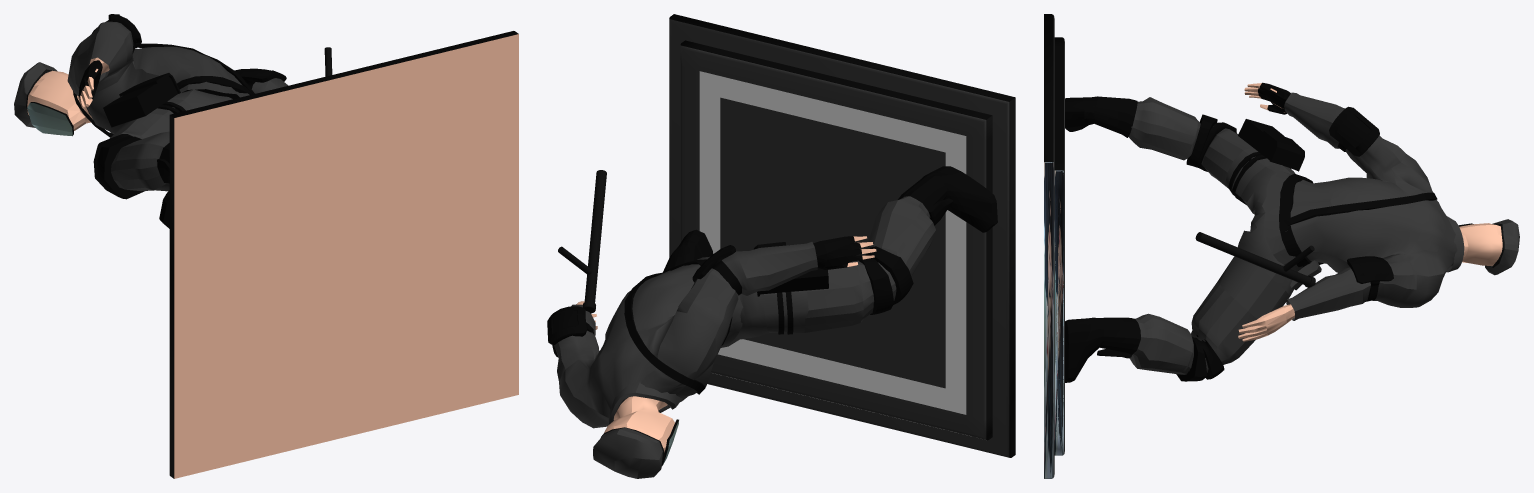
Rendered from superlimitededitioncantiusunit.fbx.
The picture shows the model from 3 angles, left to right: view 1: azimuth 30°, elevation 25°; view 2: azimuth 150°, elevation 25°; view 3: azimuth 270°, elevation 25°; orthographic projection. The views are drawn at different scales.
Visible parts, largest first — view 1: Box087; view 2: Box087; view 3: Box087.
Boxes of the visible parts, x1,y1,x2,y2 form: Box087: (14, 14, 518, 478); Box087: (547, 14, 1015, 478); Box087: (1044, 14, 1519, 478).
Bounding box in the file's own units: 1 × 1.36 × 1.
Materials: 6 (1 with a texture image).
